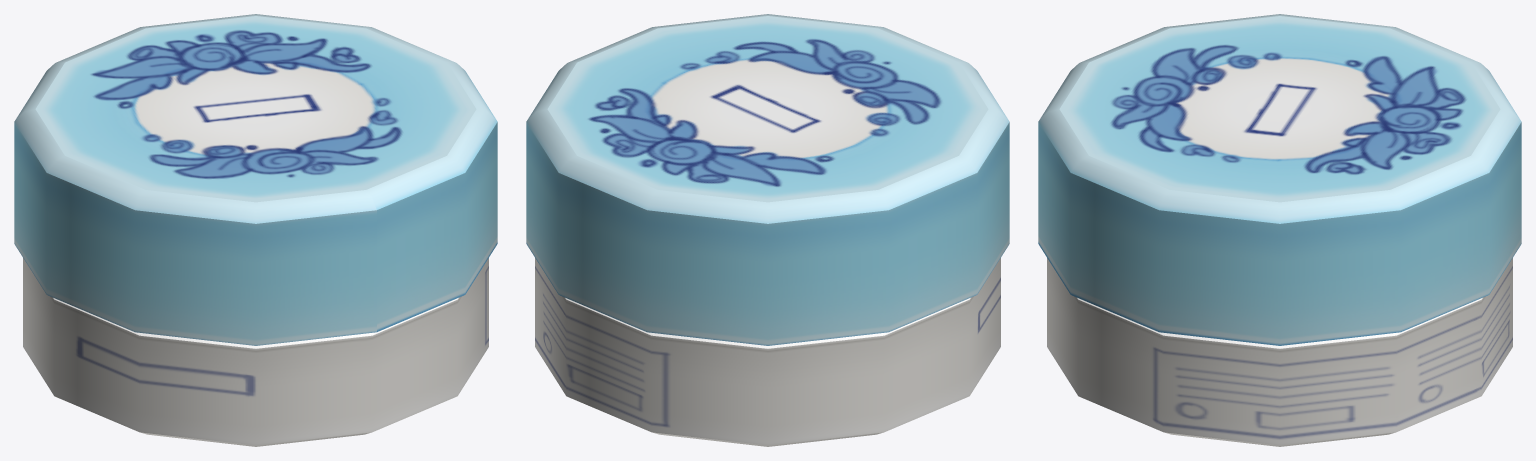
The model's file is bathroom_cream.fbx.
3 renders of one model, left to right at view 1: azimuth 30°, elevation 25°; view 2: azimuth 150°, elevation 25°; view 3: azimuth 270°, elevation 25°, orthographic.
Parts seen in each view (by area): view 1: bathroom_cream; view 2: bathroom_cream; view 3: bathroom_cream.
Boxes of the visible parts, box(x1,y1,x2,y2) form: bathroom_cream: box(14, 14, 497, 446); bathroom_cream: box(526, 14, 1009, 446); bathroom_cream: box(1038, 14, 1521, 446).
Bounding box in the file's own units: 13.59 × 7.63 × 13.59.
